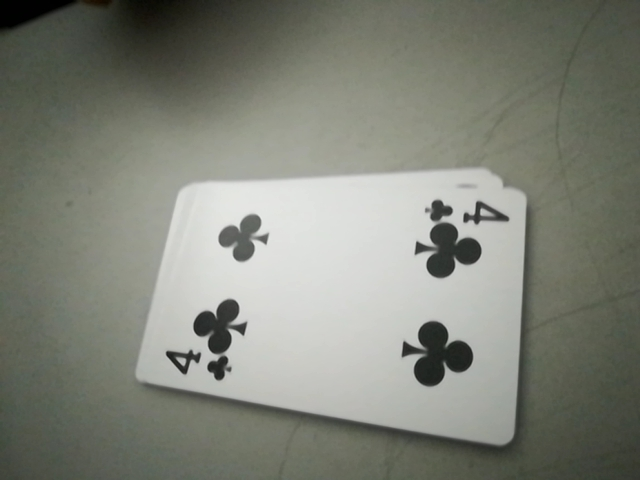mh 4: (156, 344, 236, 389), (424, 189, 511, 229)
